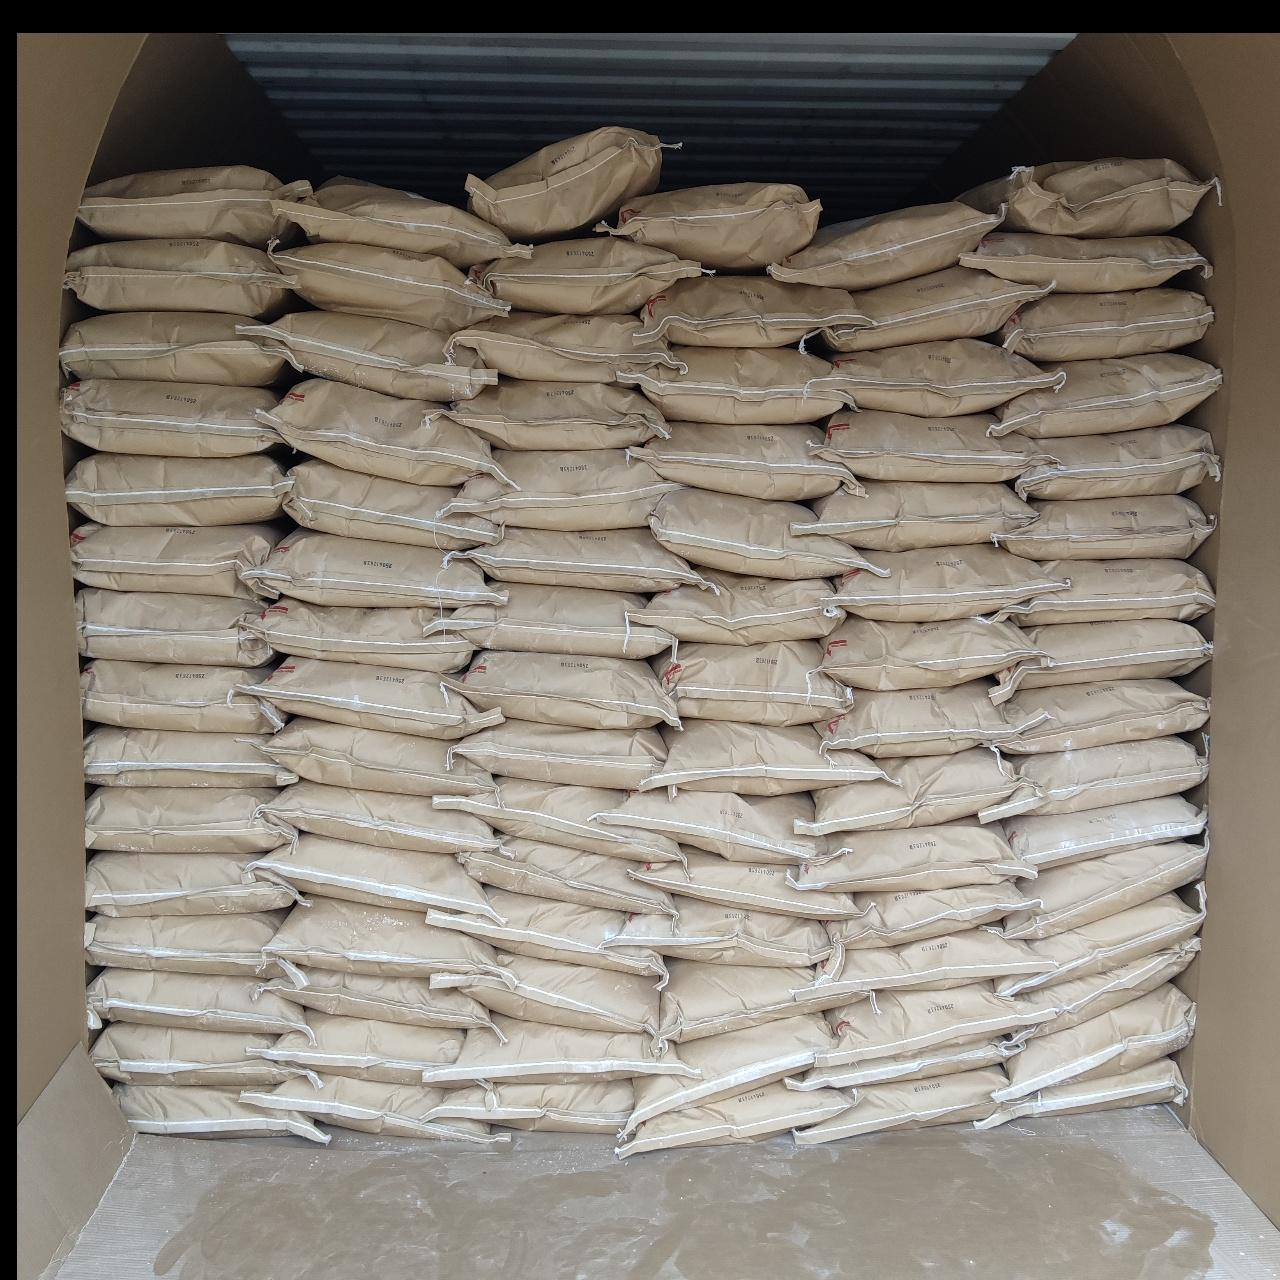sack: (263, 377, 501, 486), (629, 1014, 838, 1124), (428, 886, 666, 982), (238, 309, 493, 399), (467, 128, 670, 238), (1002, 983, 1192, 1099), (998, 890, 1201, 996), (275, 178, 524, 264), (241, 658, 502, 738), (272, 241, 508, 331), (434, 776, 678, 862), (815, 982, 1061, 1067), (652, 488, 884, 574), (1014, 937, 1200, 1043), (994, 352, 1223, 438), (240, 530, 501, 606), (248, 835, 493, 915), (813, 266, 1046, 350), (978, 736, 1206, 822), (960, 159, 1220, 234), (768, 202, 998, 286), (1000, 842, 1204, 937), (425, 1014, 696, 1085), (284, 459, 501, 549), (266, 898, 508, 978), (240, 1074, 506, 1144), (796, 748, 1017, 832), (617, 1080, 857, 1157), (79, 166, 309, 246), (258, 779, 502, 855), (628, 422, 860, 501), (992, 620, 1212, 702), (608, 184, 822, 268), (638, 720, 881, 794), (433, 952, 656, 1032), (433, 583, 674, 656), (824, 340, 1060, 414), (832, 544, 1060, 620), (450, 450, 678, 526), (595, 792, 844, 862), (264, 719, 492, 794), (66, 240, 290, 316), (246, 595, 472, 670), (448, 652, 678, 726), (456, 836, 672, 914), (796, 818, 1024, 892), (472, 238, 708, 309), (629, 346, 850, 422), (264, 968, 502, 1039), (656, 960, 869, 1039), (816, 680, 1034, 756), (629, 846, 860, 918), (448, 526, 706, 590), (454, 312, 685, 382), (60, 380, 278, 454), (654, 642, 850, 724), (792, 482, 1032, 549), (816, 410, 1050, 478), (62, 312, 288, 382), (444, 377, 668, 448), (640, 275, 870, 343), (996, 288, 1214, 360), (968, 1058, 1186, 1130), (614, 896, 836, 966), (796, 1068, 1006, 1142), (68, 454, 286, 524), (996, 678, 1206, 750), (634, 570, 844, 642), (983, 560, 1214, 626), (80, 588, 275, 666), (818, 617, 1036, 686), (72, 524, 280, 595), (1016, 424, 1218, 498), (456, 720, 666, 790), (1005, 796, 1204, 870), (816, 928, 1051, 990), (88, 968, 308, 1034), (82, 660, 282, 731), (91, 1022, 316, 1085), (962, 232, 1210, 290), (826, 881, 1039, 948), (266, 1010, 462, 1082), (86, 912, 300, 976), (996, 496, 1214, 558), (86, 788, 294, 852), (86, 726, 294, 787), (787, 1037, 1023, 1090), (86, 852, 302, 910), (114, 1084, 326, 1142), (430, 1080, 634, 1132)
